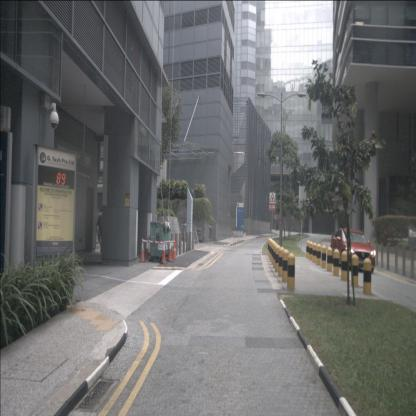cone: (160, 240, 168, 264), (166, 239, 173, 262), (139, 238, 145, 262), (144, 239, 150, 260), (171, 241, 177, 260)
